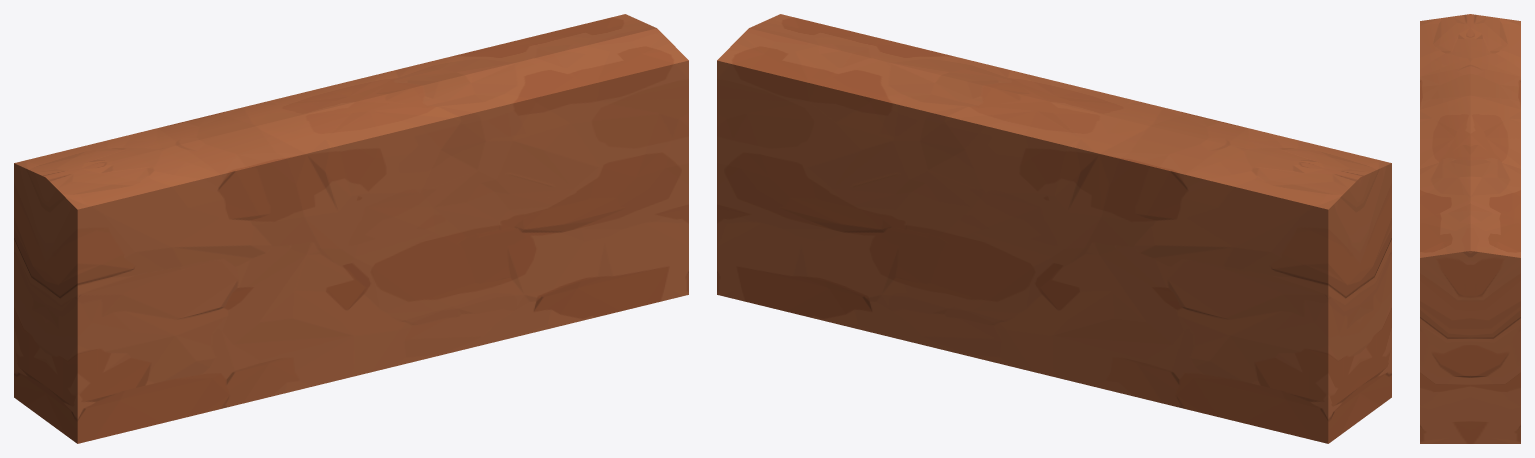
Rendered from SM_Bld_Wall_Balcony_Ground_Half_01.fbx.
3 views of the same model, side by side, from view 1: azimuth 30°, elevation 25°; view 2: azimuth 150°, elevation 25°; view 3: azimuth 270°, elevation 25° (orthographic). The views are drawn at different scales.
Visible parts, largest first — view 1: SM_Bld_Wall_Balcony_Ground_Half_01; view 2: SM_Bld_Wall_Balcony_Ground_Half_01; view 3: SM_Bld_Wall_Balcony_Ground_Half_01.
Part boxes in pixels (<box>): SM_Bld_Wall_Balcony_Ground_Half_01: <box>14,14,688,443</box>; SM_Bld_Wall_Balcony_Ground_Half_01: <box>717,14,1391,443</box>; SM_Bld_Wall_Balcony_Ground_Half_01: <box>1420,14,1520,443</box>.
Bounding box in the file's own units: 125 × 47.52 × 22.5.
